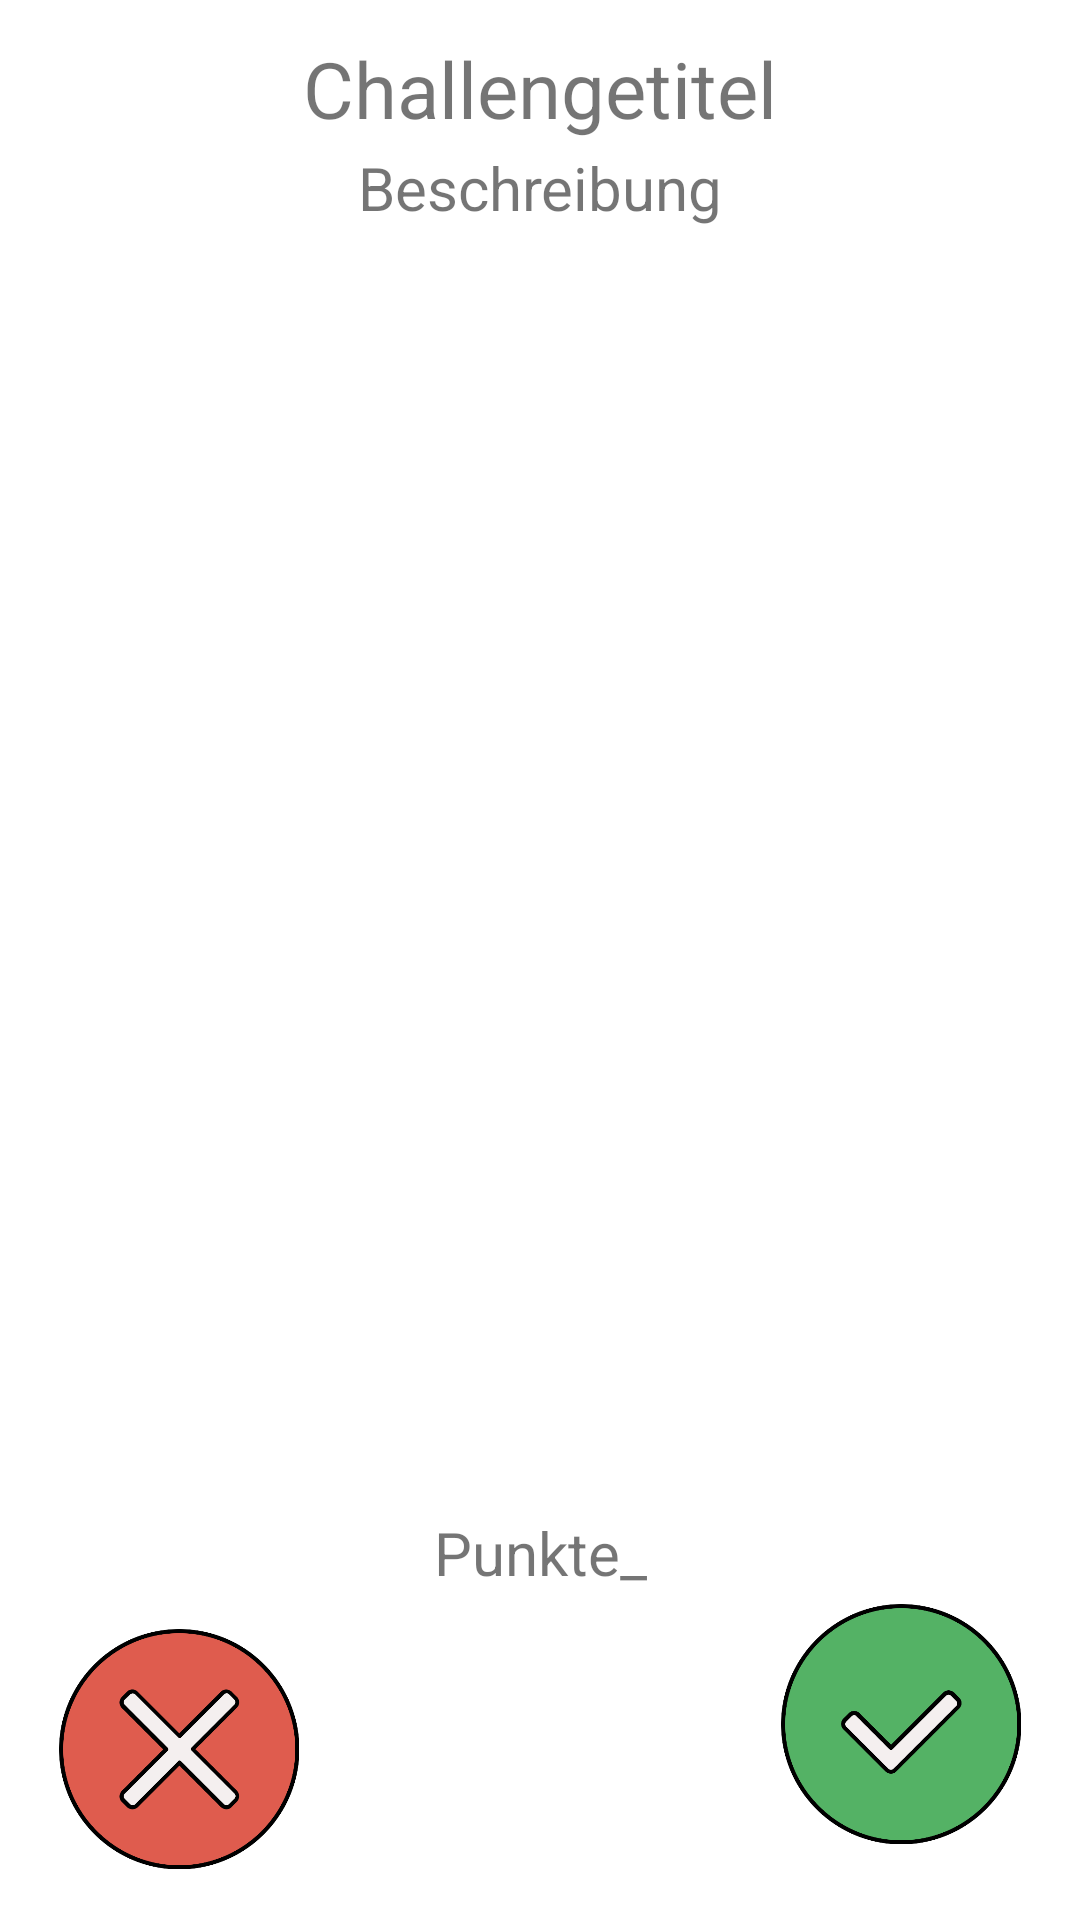

Icon bounding boxes for this 1080px x 1920px phone screenshot, format box=[x1, y1, x2, y2]:
confirm: box=[781, 1604, 1021, 1844]
decline: box=[59, 1629, 299, 1869]
